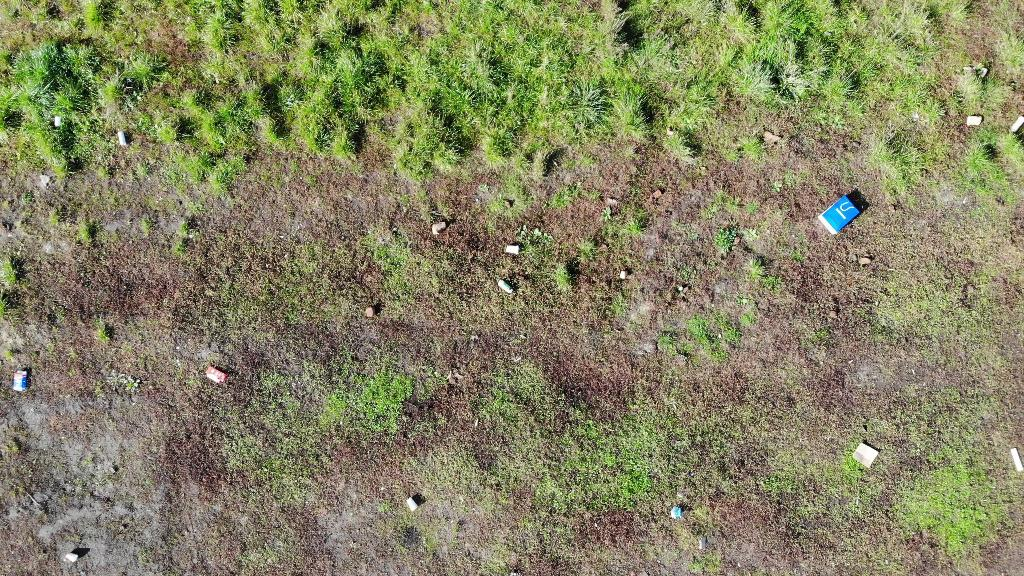garbage: (816, 195, 868, 234), (816, 194, 862, 236), (852, 439, 882, 473), (201, 363, 235, 388), (851, 441, 881, 469), (10, 366, 32, 394), (204, 366, 229, 385), (496, 277, 518, 298), (1008, 446, 1022, 474), (12, 369, 28, 391), (495, 279, 516, 295), (503, 241, 522, 257), (1009, 115, 1022, 135), (405, 498, 421, 513), (62, 554, 82, 566), (431, 221, 448, 235), (668, 505, 683, 520), (965, 116, 983, 127), (503, 244, 521, 255), (117, 130, 127, 147), (53, 116, 62, 131), (363, 307, 375, 317), (505, 571, 522, 575)
